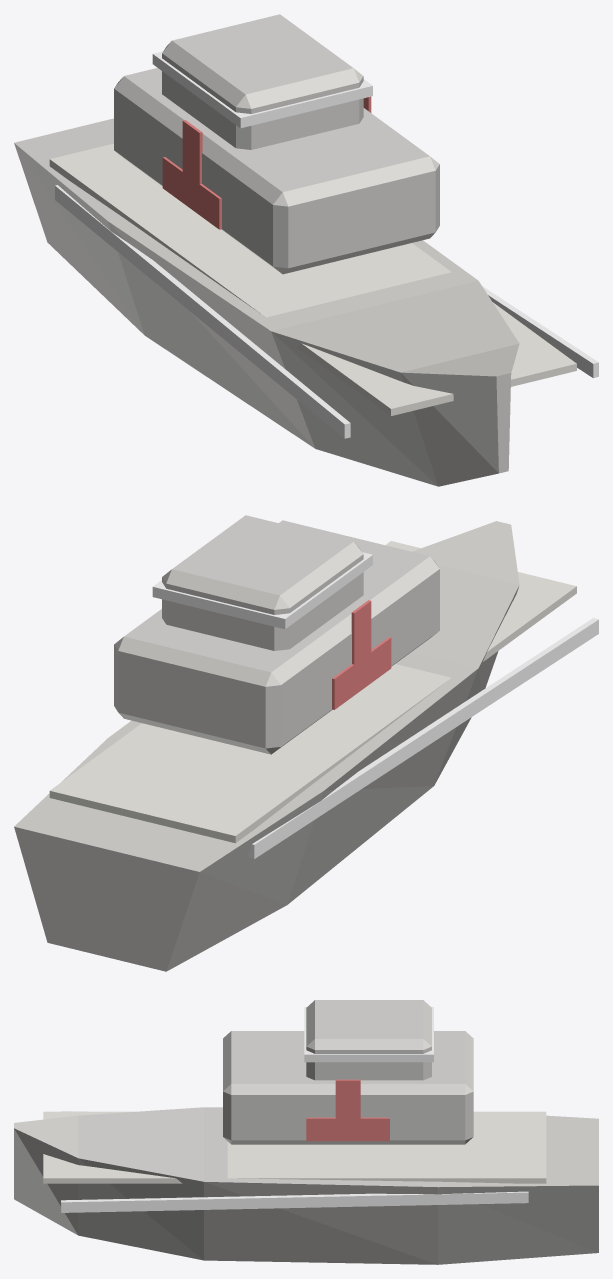
The model's file is hospitalship.glb.
3 views of the same model, one above another, from view 1: azimuth 30°, elevation 25°; view 2: azimuth 150°, elevation 25°; view 3: azimuth 270°, elevation 25° (orthographic). The views are drawn at different scales.
Visible parts, largest first — view 1: main; view 2: main; view 3: main.
Boxes of the visible parts, x1,y1,x2,y2 form: main: [14, 14, 598, 486]; main: [14, 515, 598, 971]; main: [14, 1000, 598, 1264].
Size of the model in its own units: 0.518 by 0.58 by 1.4.
